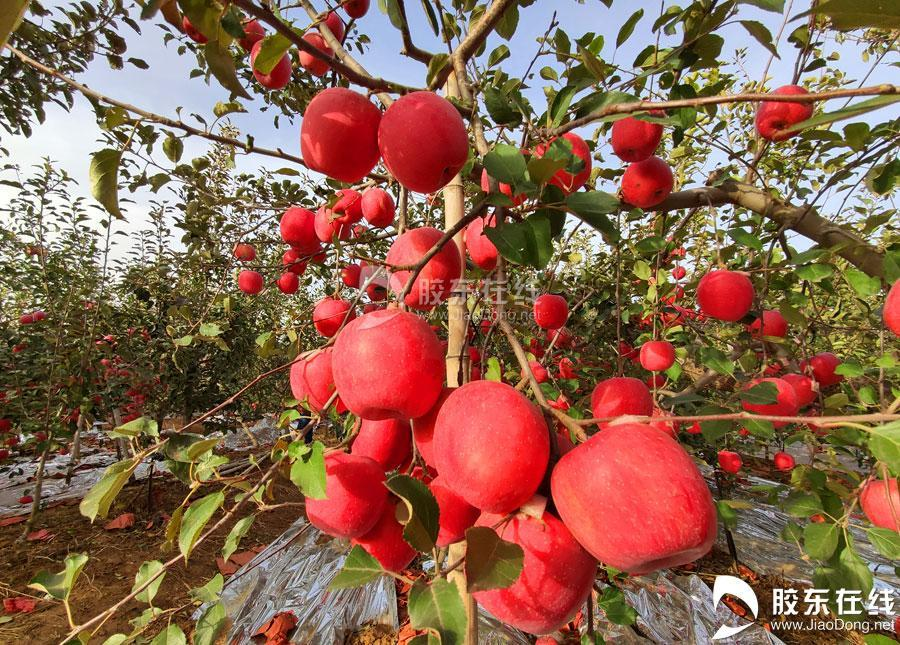apple: (547, 421, 717, 573), (469, 505, 600, 634), (431, 379, 546, 512), (329, 304, 441, 417), (378, 91, 468, 195), (298, 83, 385, 184), (303, 450, 384, 538), (385, 229, 461, 307), (755, 83, 814, 141), (695, 268, 754, 323), (616, 155, 672, 209), (608, 115, 662, 164)
